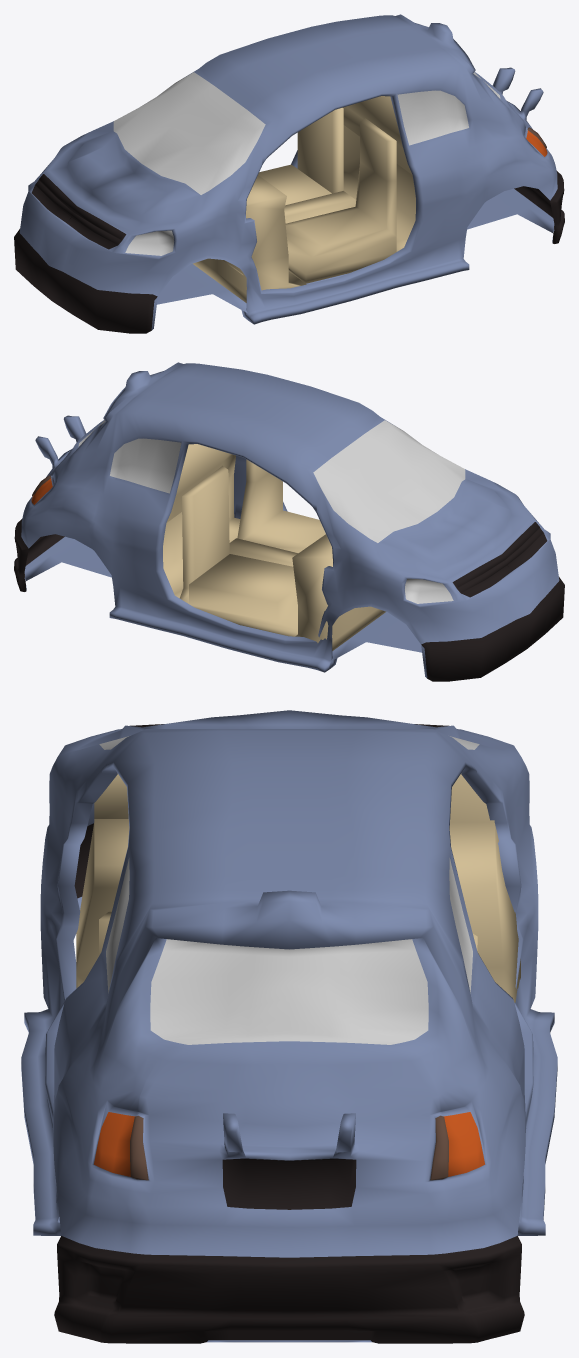
The model's file is fiat500.obj.
The picture shows the model from 3 angles, top to bottom: view 1: azimuth 30°, elevation 25°; view 2: azimuth 150°, elevation 25°; view 3: azimuth 270°, elevation 25°; orthographic projection. The views are drawn at different scales.
Size of the model in its own units: 23.37 by 8.76 by 11.18.
